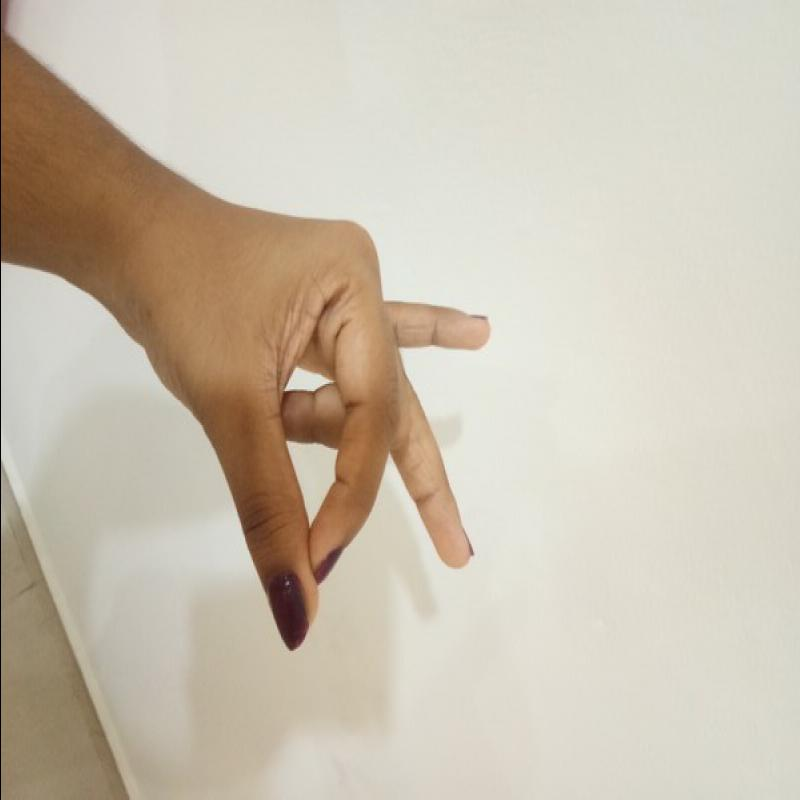Katakam: (117, 199, 517, 659)
